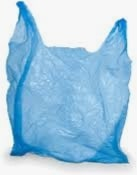kantong: (5, 1, 132, 165)
